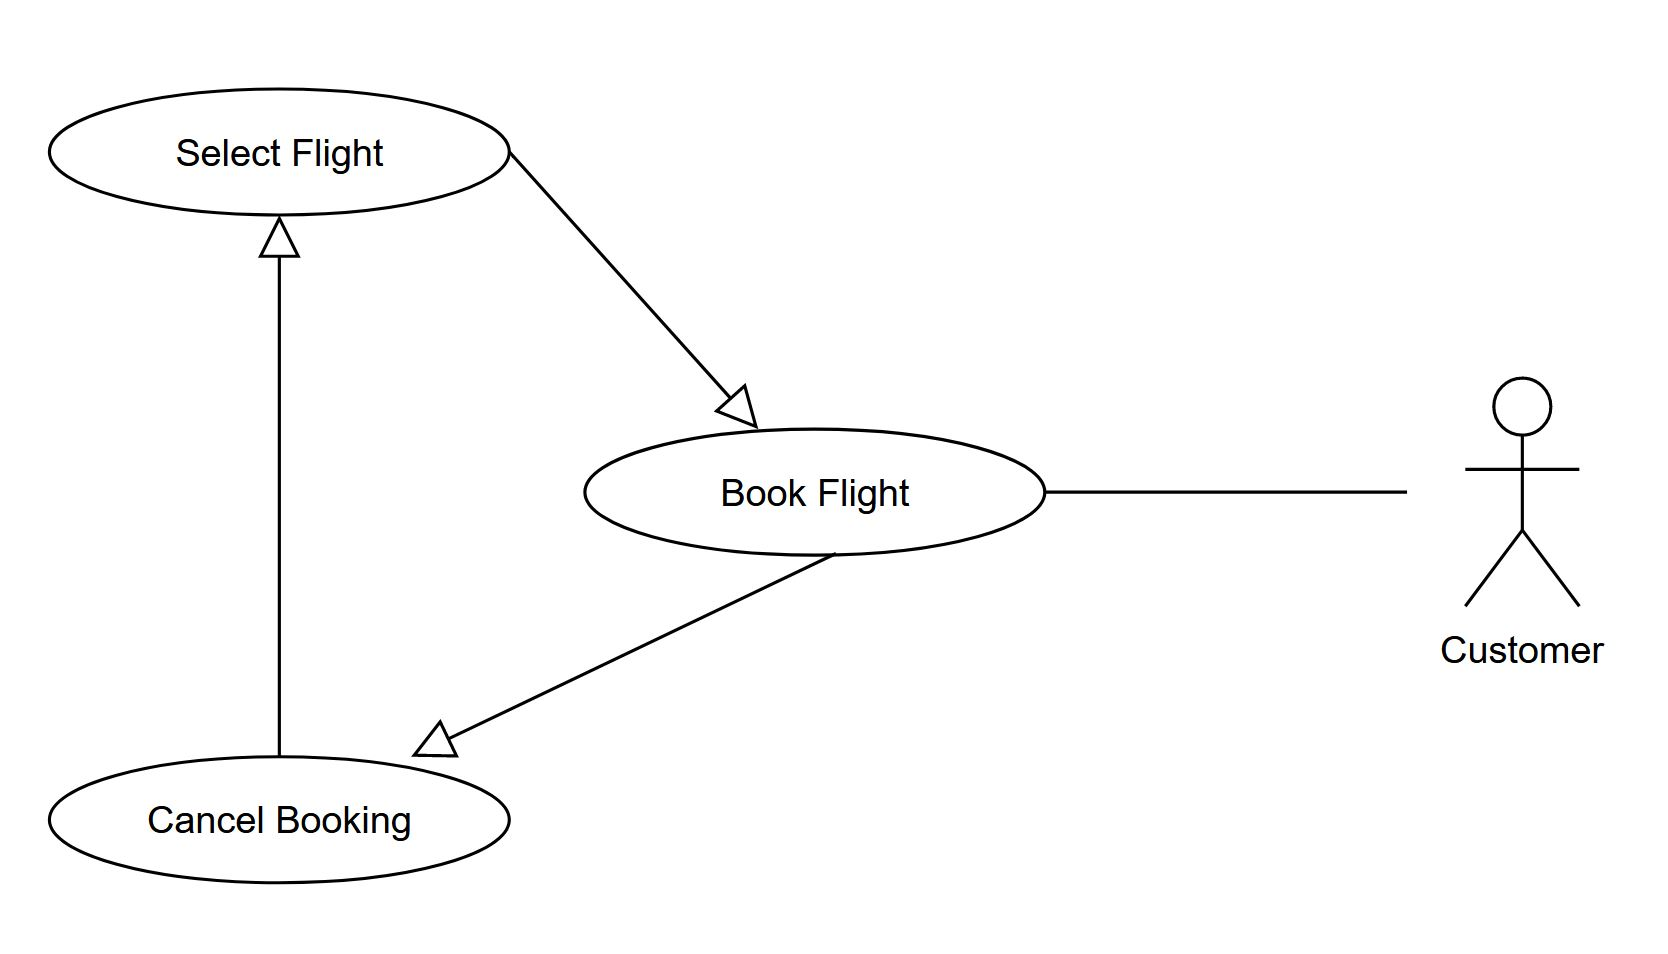actor: (1463, 371, 1584, 612)
association: (1046, 466, 1411, 512)
generalization: (410, 557, 833, 760), (512, 153, 766, 429), (255, 216, 304, 752)
text: (141, 796, 420, 847), (170, 134, 392, 180), (716, 466, 916, 517), (1435, 629, 1606, 667)
use_case: (46, 754, 511, 886), (581, 427, 1046, 559), (49, 85, 512, 216)
